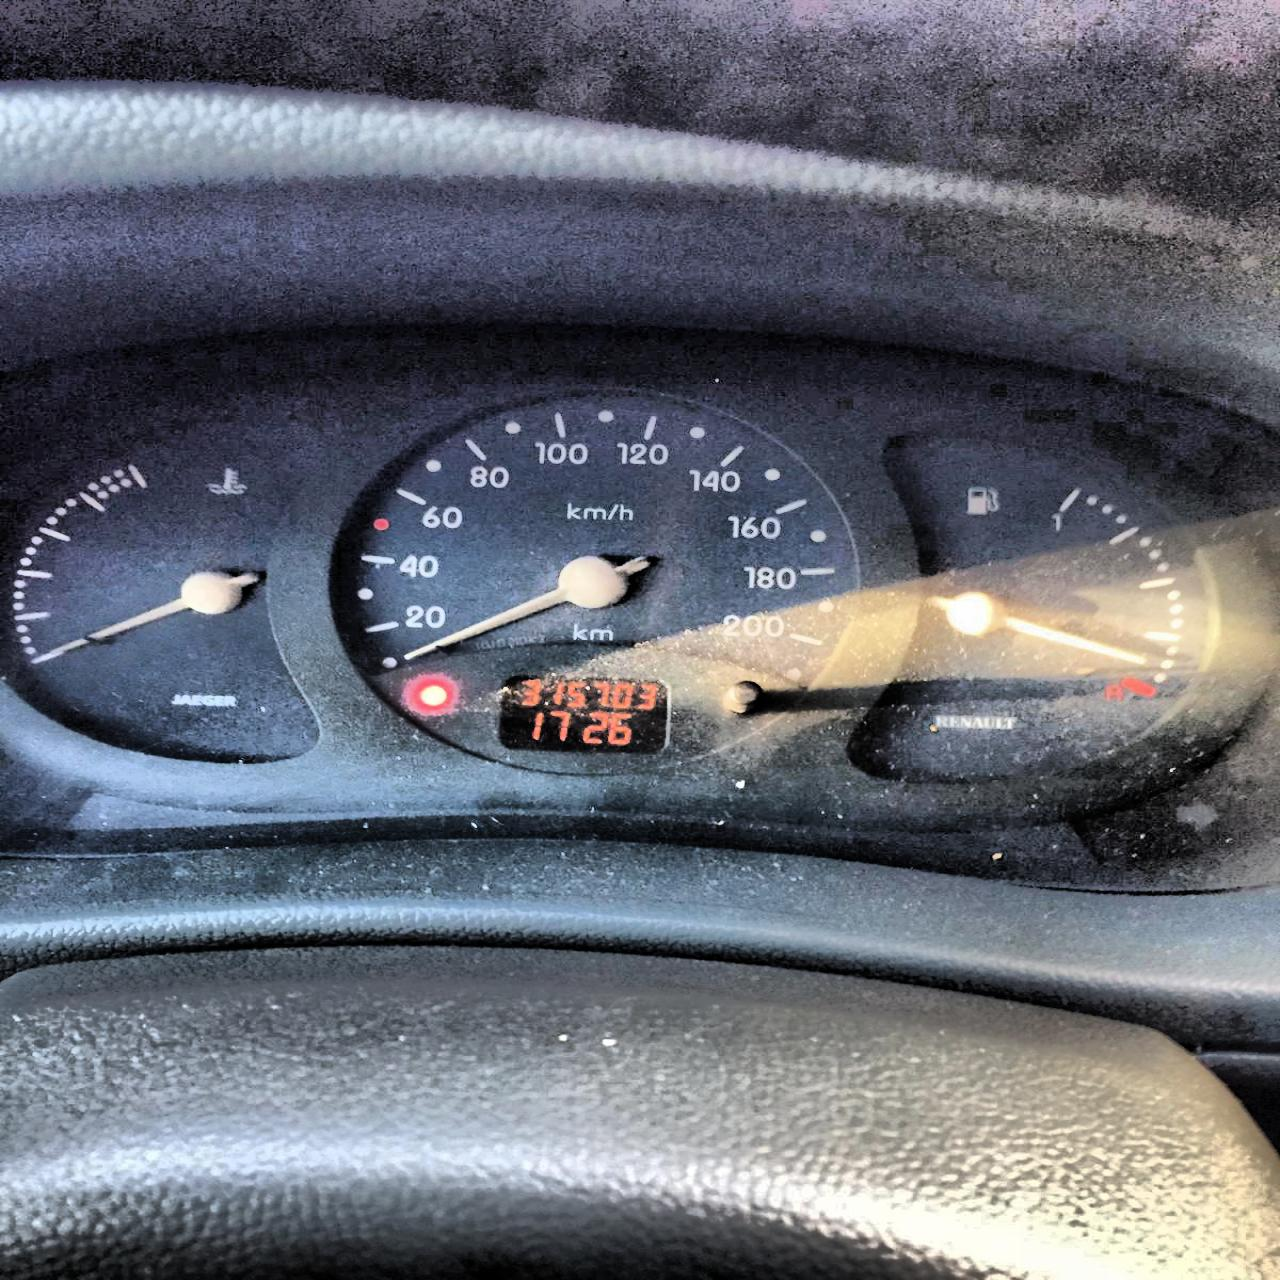0: (613, 683, 632, 707)
1: (531, 712, 542, 740), (553, 683, 564, 704)
2: (581, 712, 607, 743)
3: (520, 680, 539, 706), (636, 685, 655, 708)
5: (566, 682, 585, 707)
6: (607, 713, 631, 743)
7: (549, 710, 568, 741), (592, 683, 610, 704)
odometer: (496, 672, 670, 756)
